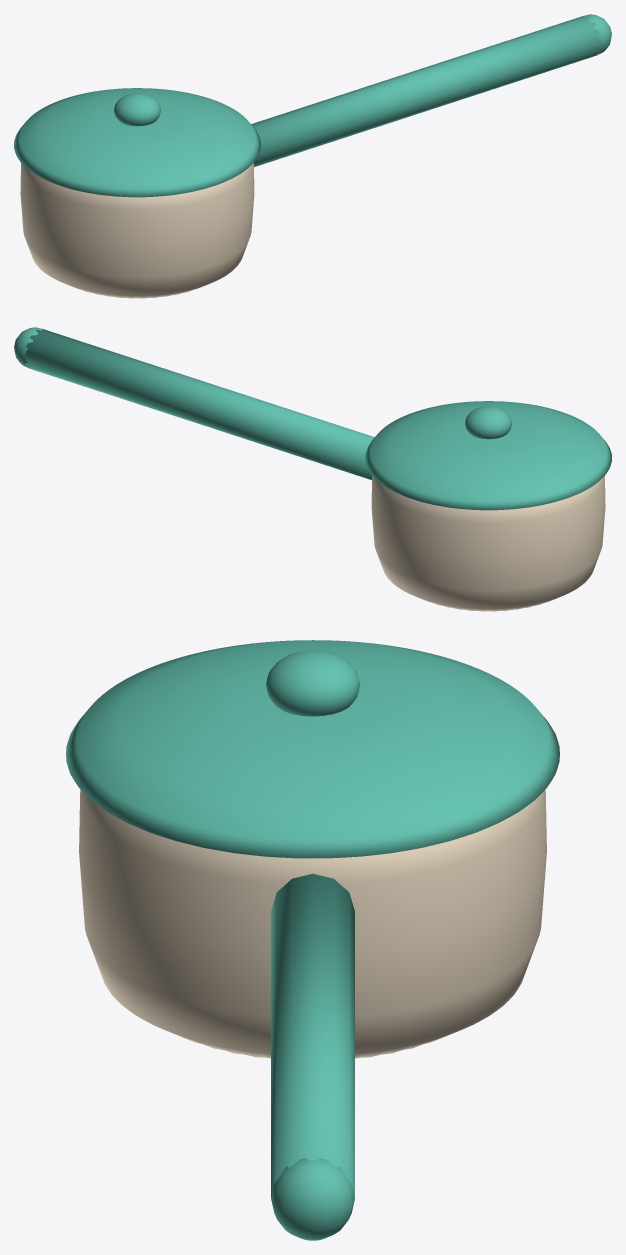
The model's file is pot_c.glb.
3 views of the same model, one above another, from view 1: azimuth 30°, elevation 25°; view 2: azimuth 150°, elevation 25°; view 3: azimuth 270°, elevation 25° (orthographic). The views are drawn at different scales.
Parts seen in each view (by area): view 1: body; view 2: body; view 3: body.
Boxes of the visible parts, x1,y1,x2,y2 form: body: (14, 14, 611, 298); body: (14, 327, 611, 611); body: (66, 640, 559, 1240).
Size of the model in its own units: 0.5103 by 0.142 by 0.1885.
